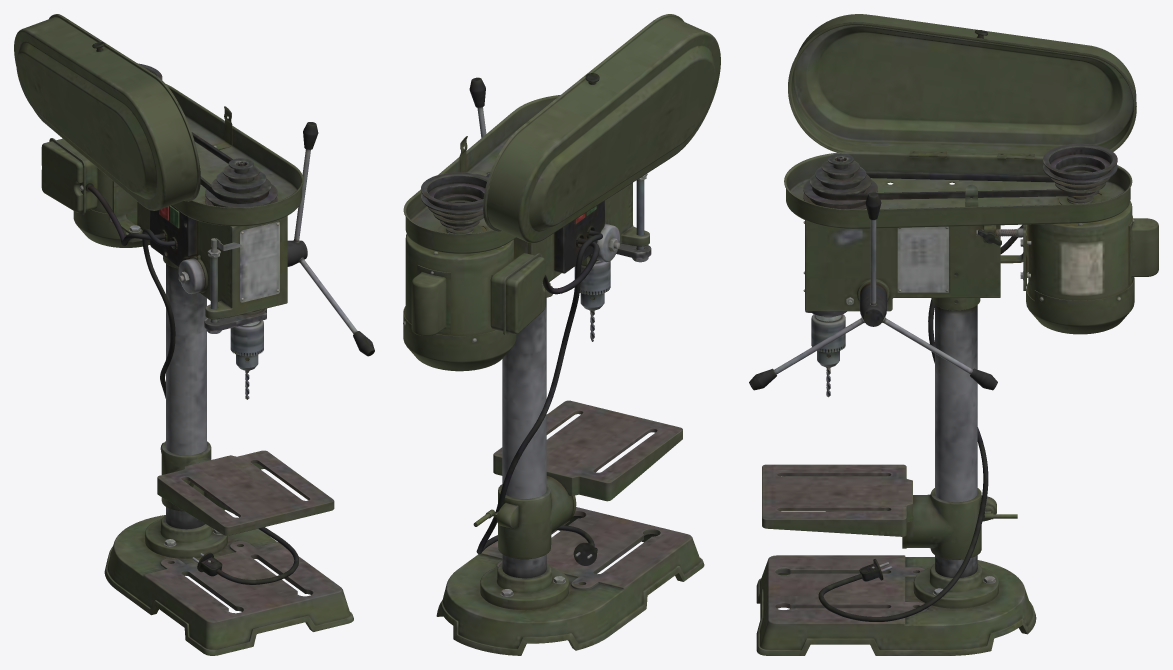
The picture shows the model from 3 angles, left to right: view 1: azimuth 30°, elevation 25°; view 2: azimuth 150°, elevation 25°; view 3: azimuth 270°, elevation 25°; orthographic projection. The views are drawn at different scales.
Parts seen in each view (by area): view 1: drill_press_01, drill_press_01_lid, drill_press_01_plate, drill_press_01_gear_b, drill_press_01_plug, drill_press_01_handle, drill_press_01_limiter, drill_press_01_bit, drill_press_01_belt; view 2: drill_press_01, drill_press_01_lid, drill_press_01_plate, drill_press_01_gear_a, drill_press_01_plug, drill_press_01_bit, drill_press_01_limiter, drill_press_01_handle; view 3: drill_press_01, drill_press_01_lid, drill_press_01_plate, drill_press_01_handle, drill_press_01_gear_a, drill_press_01_belt, drill_press_01_plug, drill_press_01_gear_b, drill_press_01_bit.
Part boxes in pixels (x1,y1,x2,y2): drill_press_01: (41,84,353,655); drill_press_01_lid: (14,14,200,210); drill_press_01_plate: (157,441,334,535); drill_press_01_gear_b: (205,158,277,207); drill_press_01_plug: (142,229,298,584); drill_press_01_handle: (287,122,374,356); drill_press_01_limiter: (204,238,266,333); drill_press_01_bit: (230,320,263,399); drill_press_01_belt: (191,132,268,203); drill_press_01: (403,95,704,655); drill_press_01_lid: (483,14,720,243); drill_press_01_plate: (493,400,682,559); drill_press_01_gear_a: (421,172,488,233); drill_press_01_plug: (476,230,602,565); drill_press_01_bit: (574,260,610,341); drill_press_01_limiter: (616,173,651,262); drill_press_01_handle: (469,77,489,174); drill_press_01: (756,152,1158,655); drill_press_01_lid: (788,14,1136,160); drill_press_01_plate: (762,464,996,559); drill_press_01_handle: (749,192,997,390); drill_press_01_gear_a: (1043,143,1117,203); drill_press_01_belt: (812,171,1095,200); drill_press_01_plug: (818,298,988,621); drill_press_01_gear_b: (803,153,877,209); drill_press_01_bit: (811,314,845,397).
Bounding box in the file's own units: 0.3543 × 0.9011 × 0.5988.
1 material, 1 textured.
